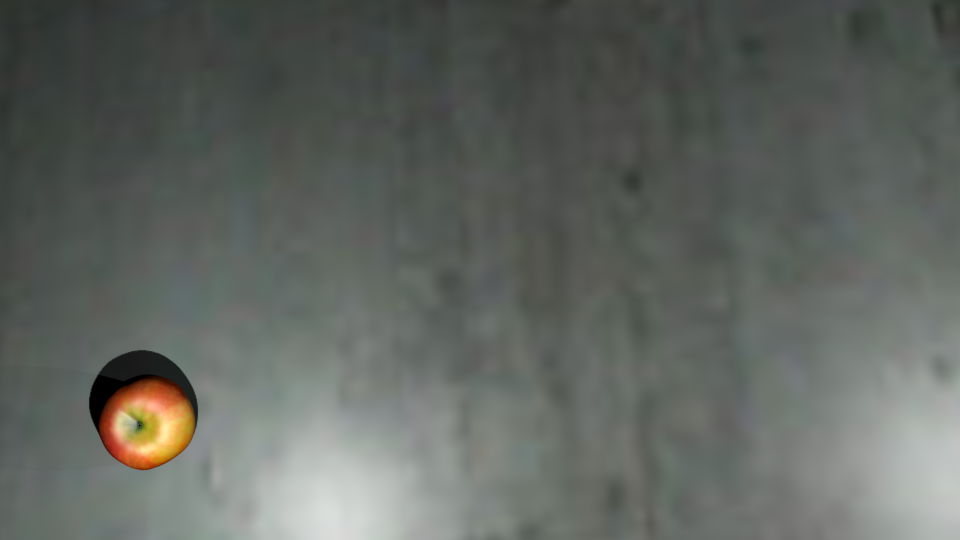apple: (598, 82, 718, 181), (100, 381, 195, 471), (707, 494, 848, 540), (140, 81, 203, 129)
banana: (316, 176, 525, 296), (1, 40, 145, 83), (868, 94, 960, 136)
cola_can: (16, 204, 113, 347)
orange: (11, 96, 124, 196), (132, 193, 207, 258), (600, 253, 666, 311), (209, 94, 262, 146)
